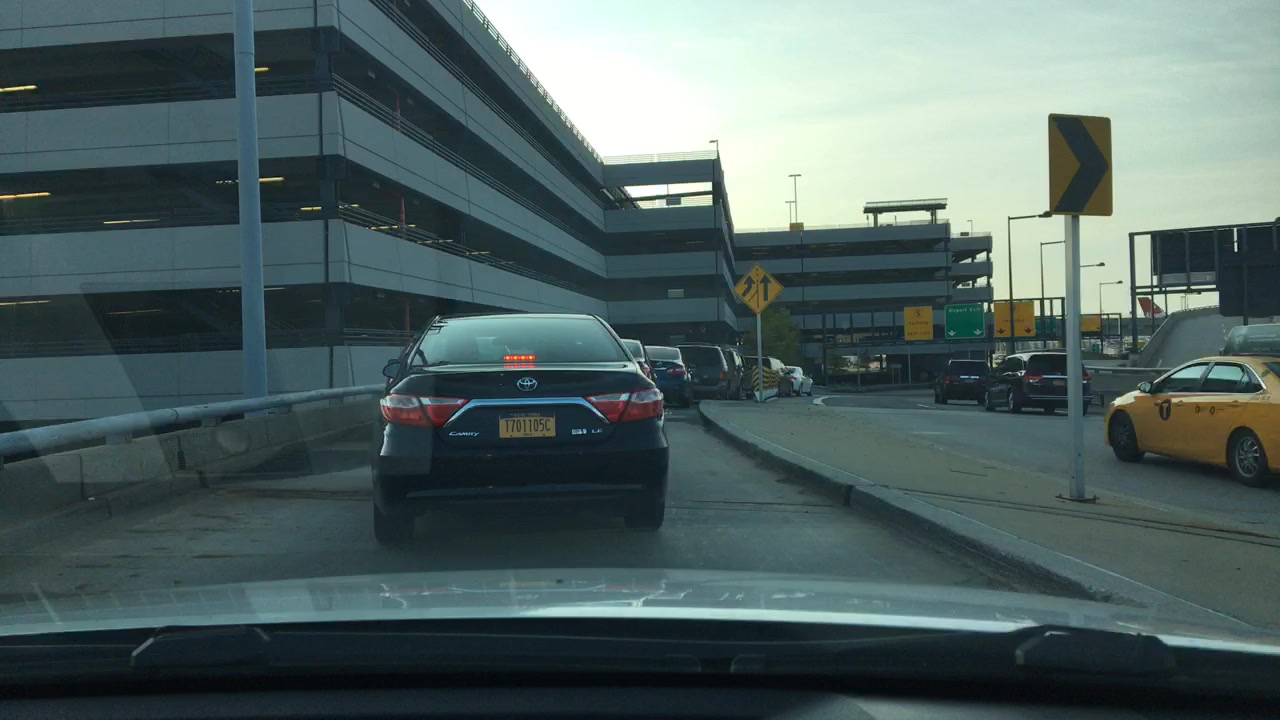licence: (496, 411, 560, 440)
